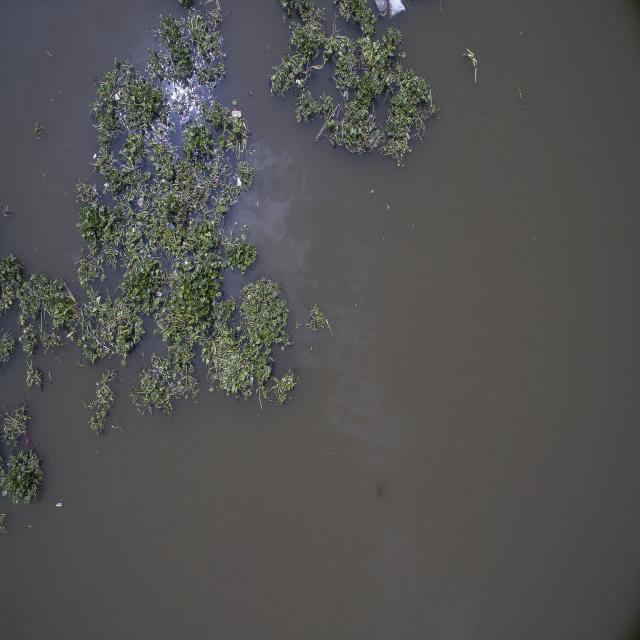Plastic: (370, 0, 408, 20), (232, 108, 244, 118), (236, 176, 242, 186)
